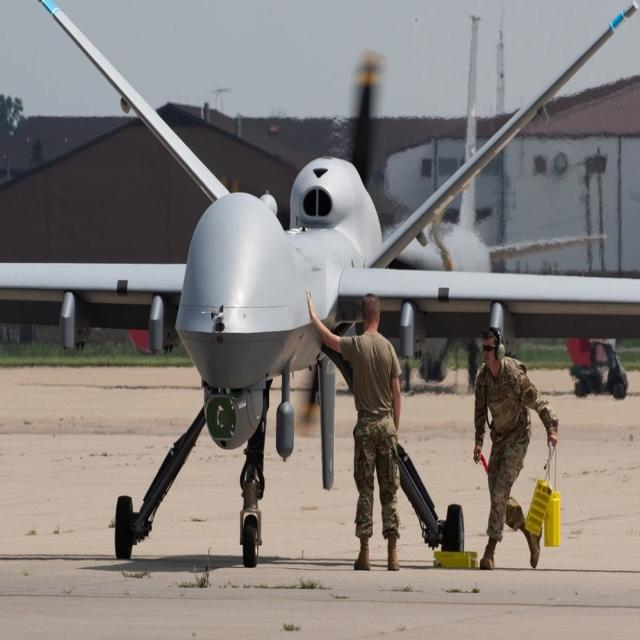MQ9: (0, 4, 640, 538)
